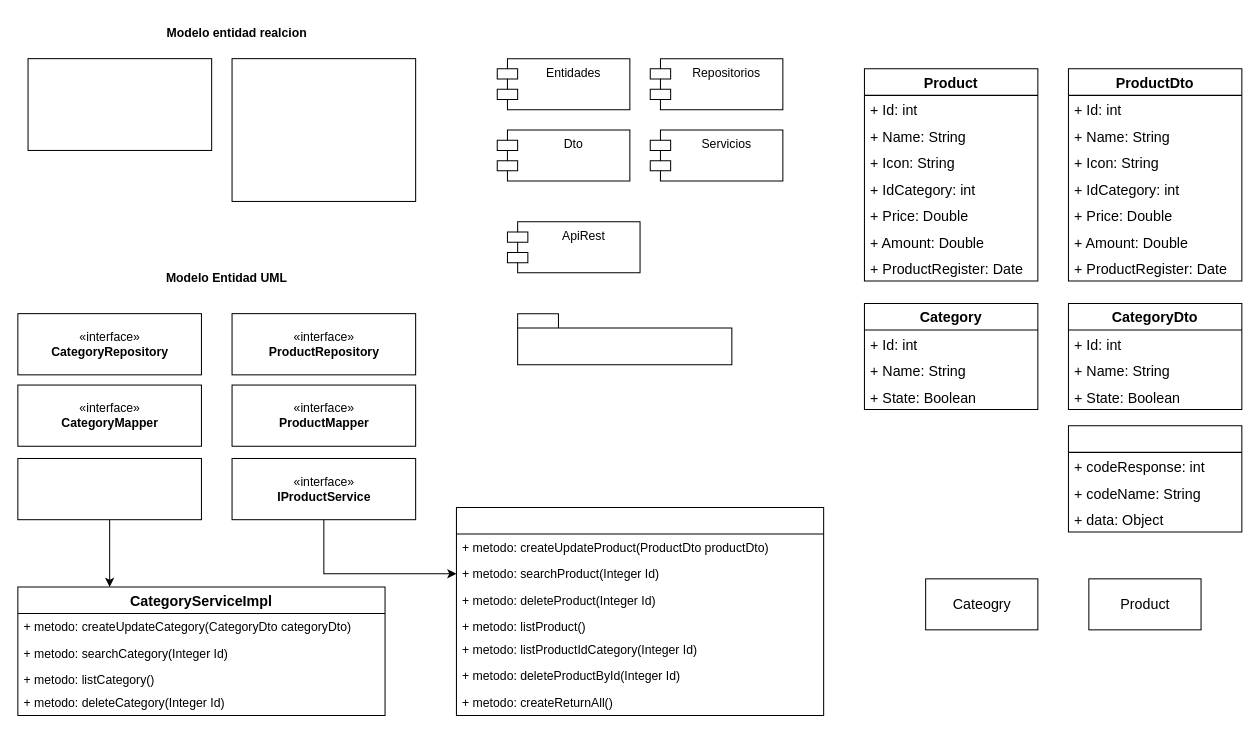
The diagram is 1260 pixels wide and 735 high, and some of its shapes have lost their labels. Here are the shapes that lost their labels. From the top down, the box of each, then its label:
(27, 58, 212, 150): tbl_category PK id name state
(231, 58, 416, 201): tbl_product PK id amount id_category name price product_register icon
(517, 313, 732, 365): com.ecomerce.zhad
(17, 457, 201, 520): «interface» ICategoryService
(1067, 425, 1242, 532): ResponseApiDto
(455, 506, 824, 716): ProductServiceImpl
